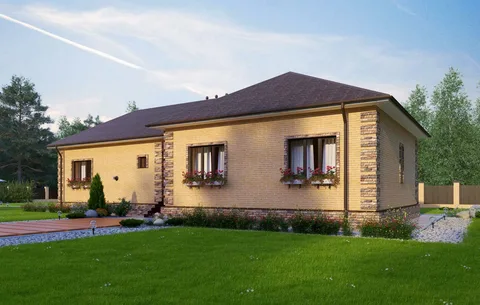private_hause: (55, 71, 422, 227)
